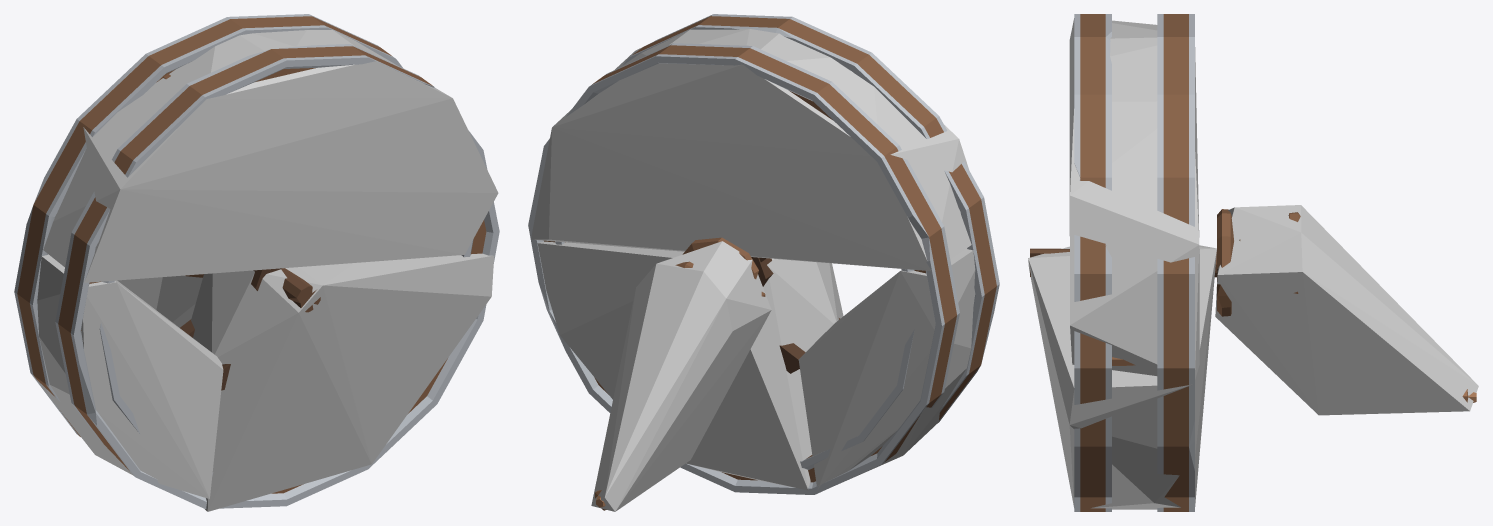
File: SM_Bld_Crane_01_Wheel_01.fbx
The picture shows the model from 3 angles, left to right: view 1: azimuth 30°, elevation 25°; view 2: azimuth 150°, elevation 25°; view 3: azimuth 270°, elevation 25°; orthographic projection. The views are drawn at different scales.
Visible parts, largest first — view 1: SM_Bld_Crane_01_Wheel_01_ConvexHulls, SM_Bld_Crane_01_Wheel_01; view 2: SM_Bld_Crane_01_Wheel_01_ConvexHulls, SM_Bld_Crane_01_Wheel_01; view 3: SM_Bld_Crane_01_Wheel_01_ConvexHulls, SM_Bld_Crane_01_Wheel_01.
Boxes of the visible parts, bbox=[...] form: SM_Bld_Crane_01_Wheel_01_ConvexHulls: bbox=[35, 30, 498, 511]; SM_Bld_Crane_01_Wheel_01: bbox=[14, 14, 499, 508]; SM_Bld_Crane_01_Wheel_01_ConvexHulls: bbox=[531, 29, 975, 511]; SM_Bld_Crane_01_Wheel_01: bbox=[528, 14, 999, 510]; SM_Bld_Crane_01_Wheel_01_ConvexHulls: bbox=[1028, 18, 1478, 509]; SM_Bld_Crane_01_Wheel_01: bbox=[1030, 14, 1476, 511].
Size of the model in its own units: 211 by 190 by 213.
Materials: 2 (1 with a texture image).
